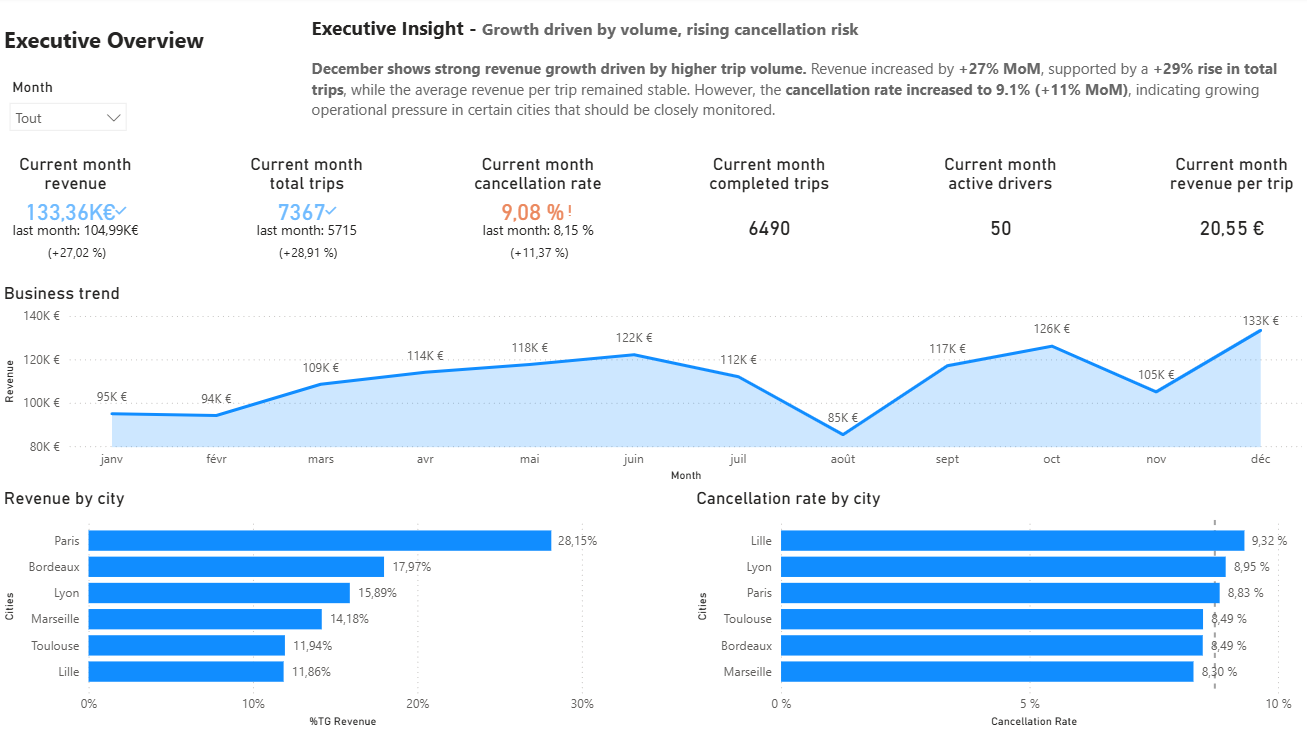

This screenshot's page, from the dashboard's own definition file:
{"tool":"powerbi","page":{"name":"Executive Overview","canvas":[1280,720],"ordinal":0},"visuals":[{"type":"kpi","title":"Current month revenue","fields":{"TrendLine":["Dates.MonthStart"],"Goal":["hype_taxi_trips_2025.Revenue PM"],"Indicator":["hype_taxi_trips_2025.Revenue"]},"box":[0,153.7,149.6,108.4],"z":0,"group":"g1"},{"type":"slicer","fields":{"Values":["Dates.Month"]},"box":[0,75.5,134.5,63.1],"z":0},{"type":"kpi","title":"Current month cancellation rate","fields":{"TrendLine":["Dates.MonthStart"],"Goal":["hype_taxi_trips_2025.Cancellation Rate PM"],"Indicator":["hype_taxi_trips_2025.Cancellation Rate"]},"box":[452.3,153.7,149.6,108.4],"z":1000,"group":"g1"},{"type":"lineChart","title":"Business trend","fields":{"Y":["hype_taxi_trips_2025.Revenue"],"Category":["Dates.Month"]},"box":[0,279.9,1280.3,200.3],"z":1000},{"type":"kpi","title":"Current month total trips","fields":{"TrendLine":["Dates.MonthStart"],"Indicator":["hype_taxi_trips_2025.Total Trips"],"Goal":["hype_taxi_trips_2025.Trips PM"]},"box":[226.1,153.7,149.6,108.4],"z":2000,"group":"g1"},{"type":"clusteredBarChart","title":"Revenue by city","fields":{"Category":["hype_taxi_cities.city_name"],"Y":["hype_taxi_trips_2025.Revenue"]},"box":[0,480.3,602.4,240.1],"z":2000},{"type":"kpi","title":"Current month active drivers","fields":{"TrendLine":["Dates.MonthStart"],"Indicator":["hype_taxi_trips_2025.Active Drivers"]},"box":[904.5,153.7,149.6,108.4],"z":3000,"group":"g1"},{"type":"clusteredBarChart","title":"Cancellation rate by city","fields":{"Category":["hype_taxi_cities.city_name"],"Y":["hype_taxi_trips_2025.Cancellation Rate"]},"box":[677.9,480.3,602.4,240.1],"z":3000},{"type":"kpi","title":"Current month revenue per trip","fields":{"TrendLine":["Dates.MonthStart"],"Indicator":["hype_taxi_trips_2025.Revenue per Trip"]},"box":[1130.7,153.7,149.6,108.4],"z":4000,"group":"g1"},{"type":"textbox","box":[0,23.3,226.4,45.3],"z":4000},{"type":"kpi","title":"Current month completed trips","fields":{"TrendLine":["Dates.MonthStart"],"Indicator":["hype_taxi_trips_2025.Completed Trips"]},"box":[678.4,153.7,149.6,108.4],"z":5000,"group":"g1"},{"type":"group","id":"g1","title":"Groupe 1","box":[0,153.7,1280.3,108.4],"z":5000},{"type":"textbox","box":[300.5,13.7,979.8,123.5],"z":6000}]}

Visuals, with their boxes in screenshot pixels (x1, y1, x2, y2), scaled from the page's 1280x720 canvas onto the 1307x731 screenshot:
"Current month revenue" kpi: rect(0, 156, 153, 266)
slicer - Dates.Month: rect(0, 77, 137, 141)
"Current month cancellation rate" kpi: rect(462, 156, 615, 266)
"Business trend" lineChart: rect(0, 284, 1306, 488)
"Current month total trips" kpi: rect(231, 156, 384, 266)
"Revenue by city" clusteredBarChart: rect(0, 488, 615, 730)
"Current month active drivers" kpi: rect(924, 156, 1076, 266)
"Cancellation rate by city" clusteredBarChart: rect(692, 488, 1306, 730)
"Current month revenue per trip" kpi: rect(1155, 156, 1306, 266)
textbox: rect(0, 24, 231, 70)
"Current month completed trips" kpi: rect(693, 156, 845, 266)
"Groupe 1" group: rect(0, 156, 1306, 266)
textbox: rect(307, 14, 1306, 139)
